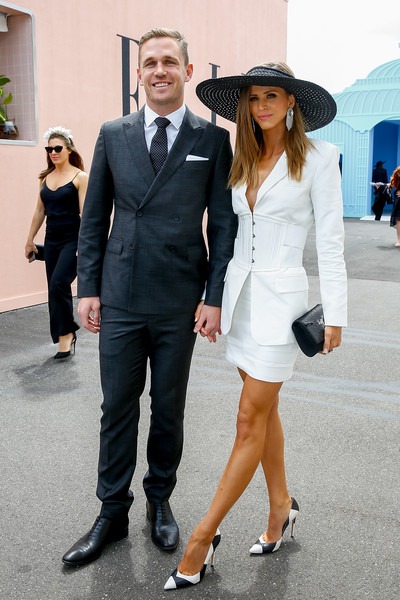Person: (206, 61, 346, 540), (84, 28, 205, 529), (25, 127, 83, 358)
